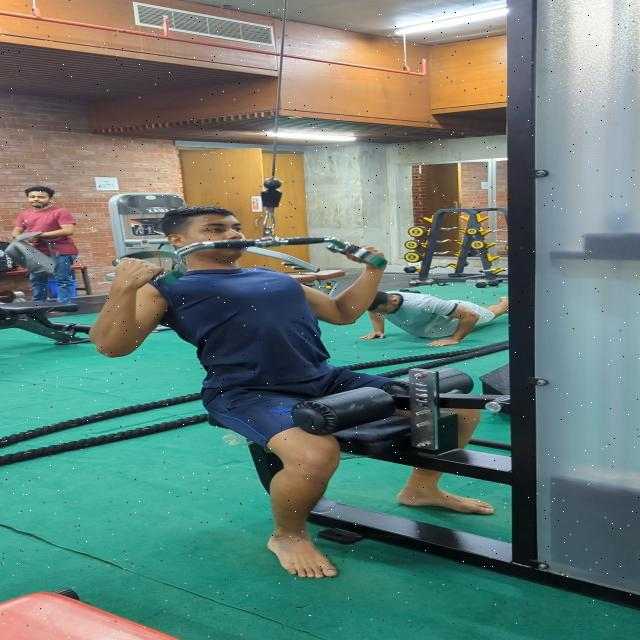Normal_LatPulldown: (86, 200, 501, 592)
